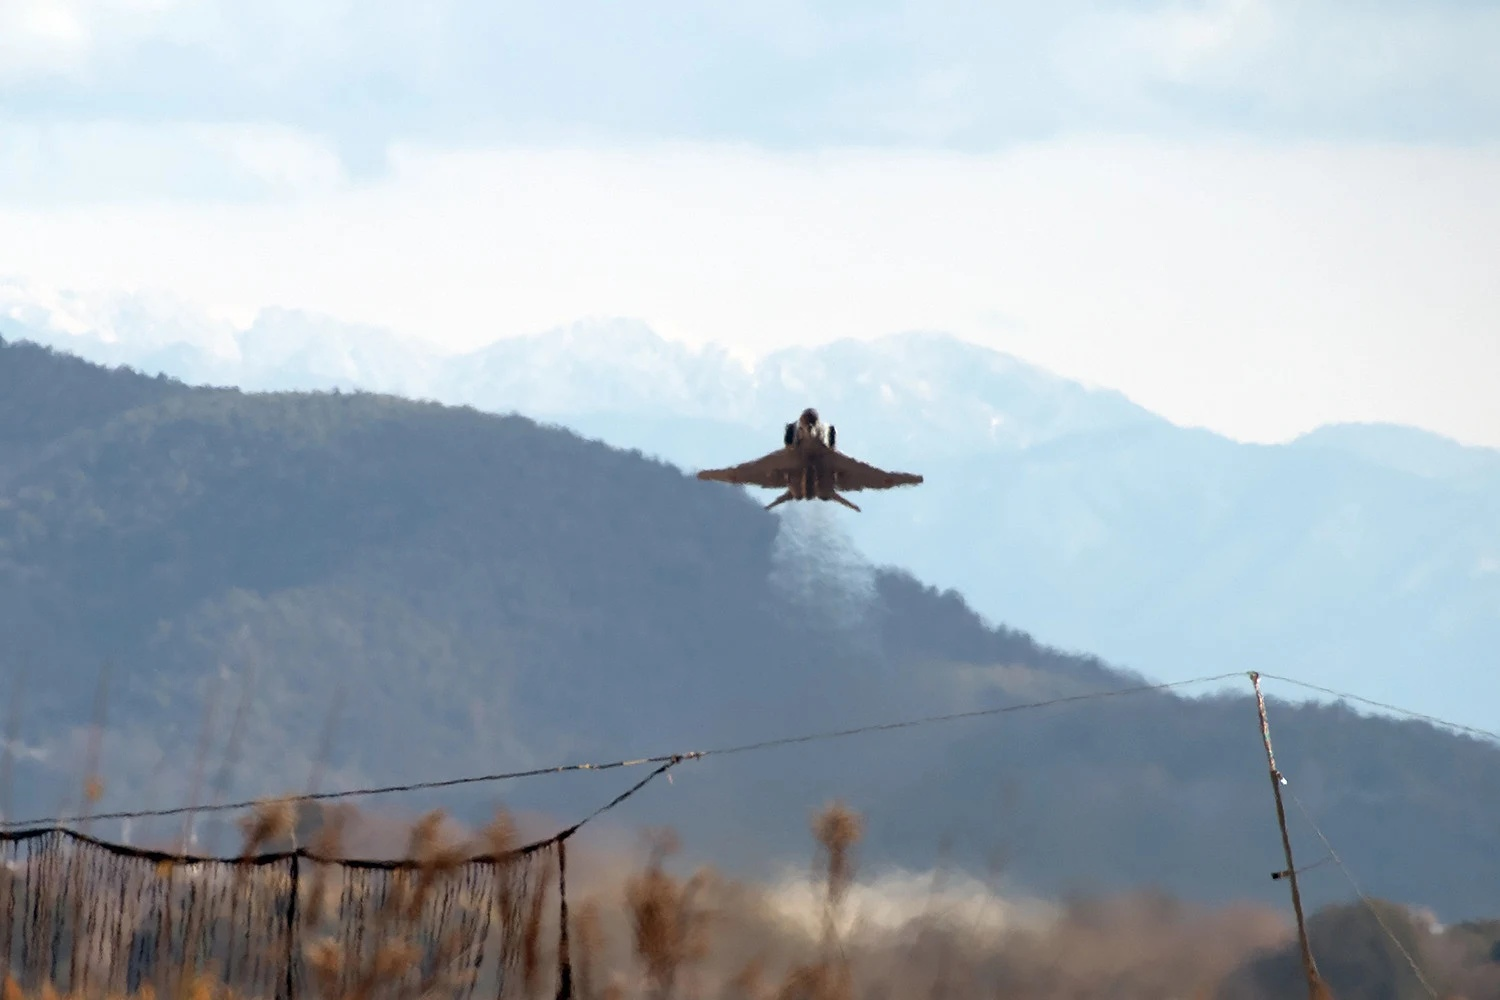F4: (696, 407, 924, 513)
